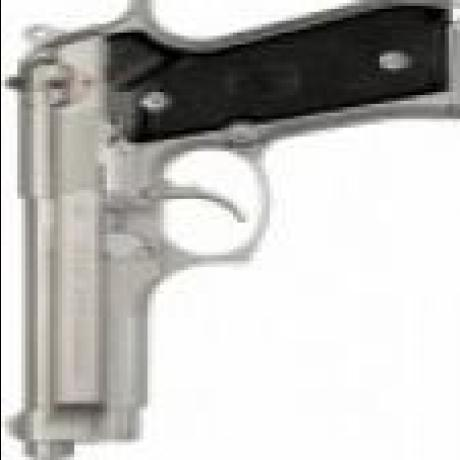weapon: (0, 0, 419, 454)
